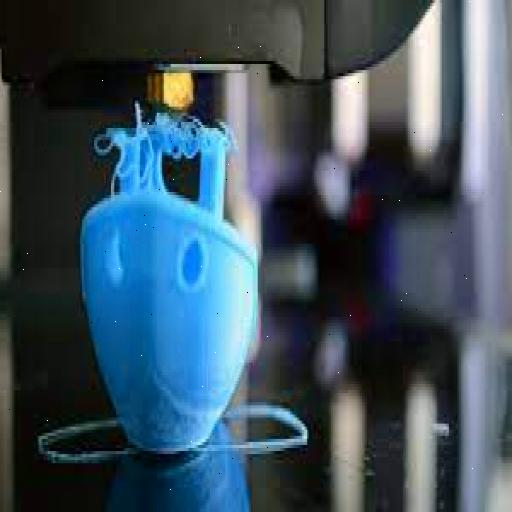spaghetti: (96, 96, 248, 188)
